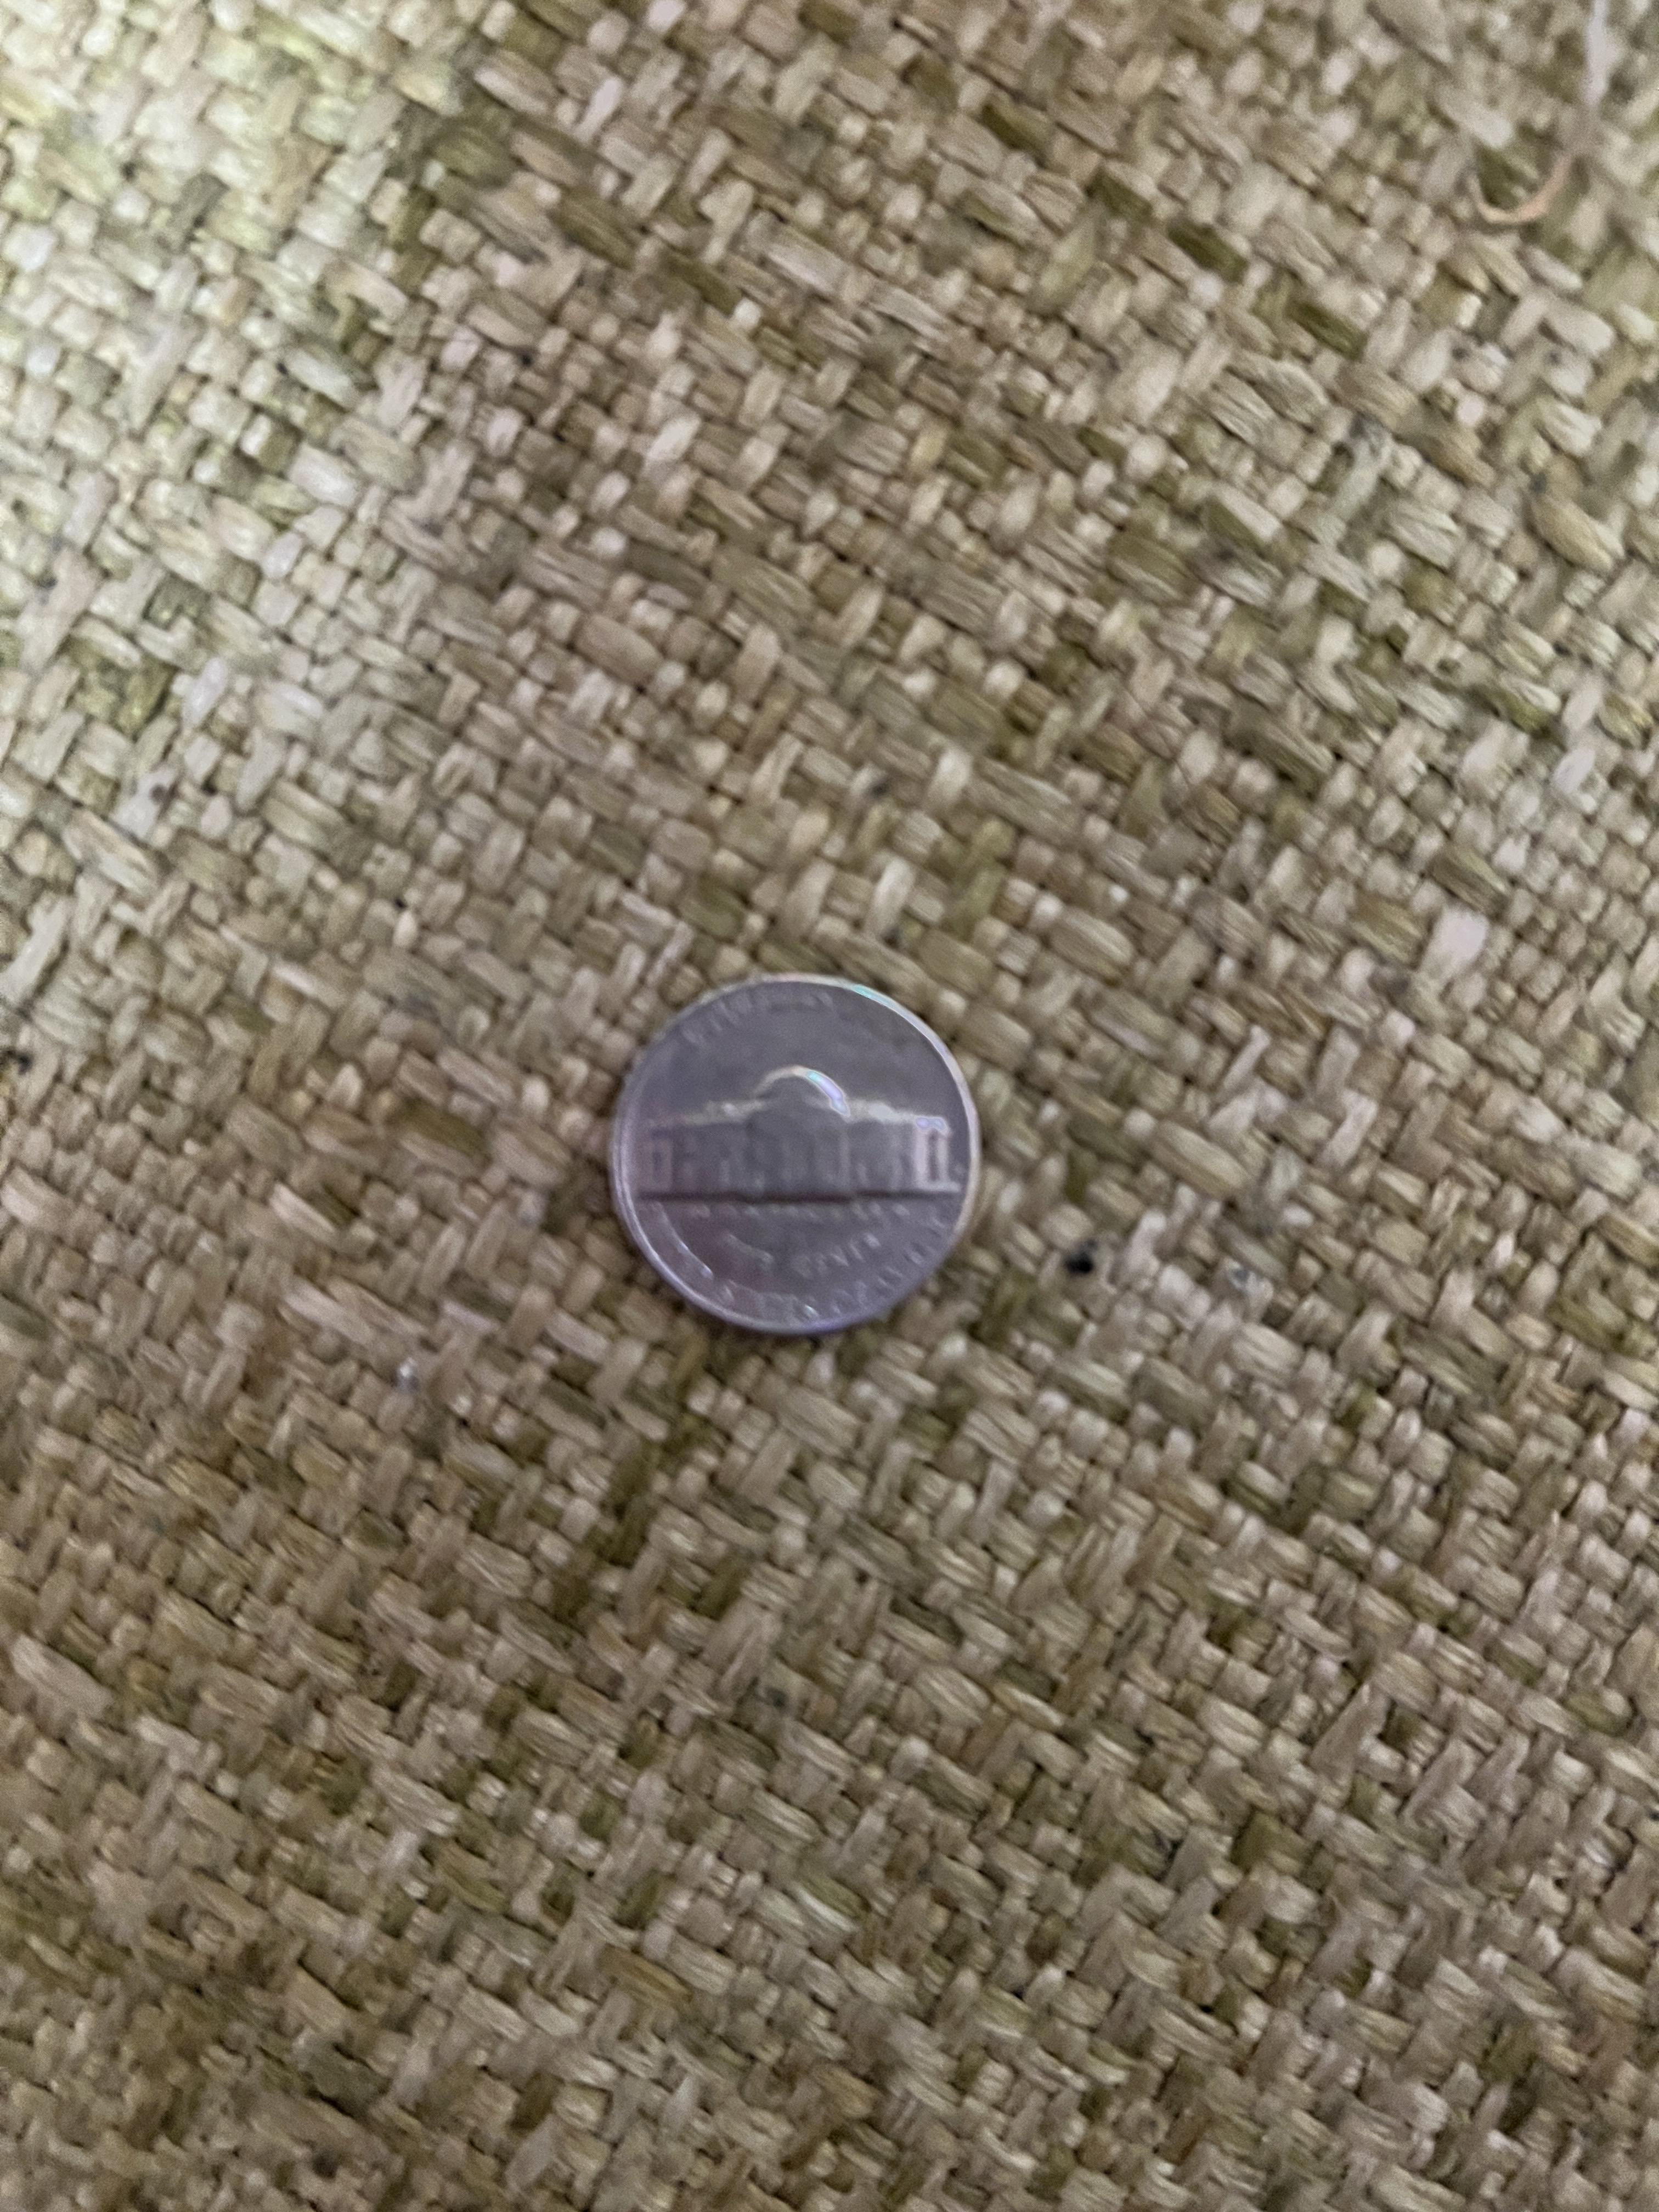Nickel: (594, 967, 1004, 1346)
